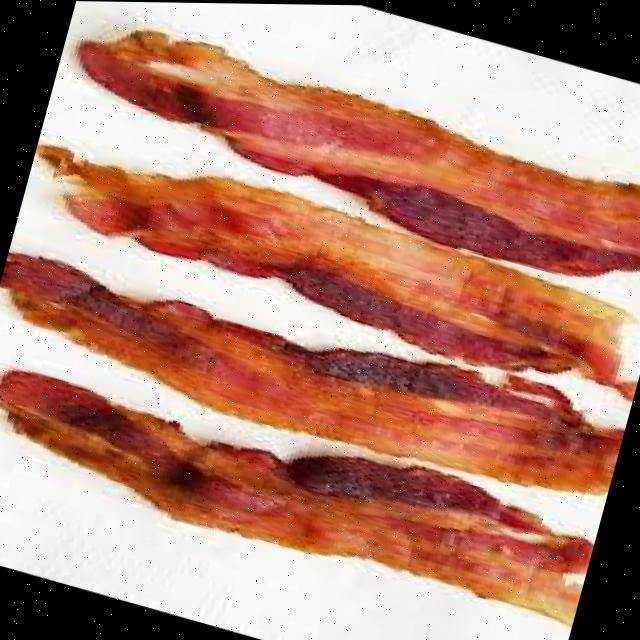Bacon: (1, 254, 623, 492), (0, 371, 593, 620), (40, 147, 629, 393), (79, 31, 640, 273)
